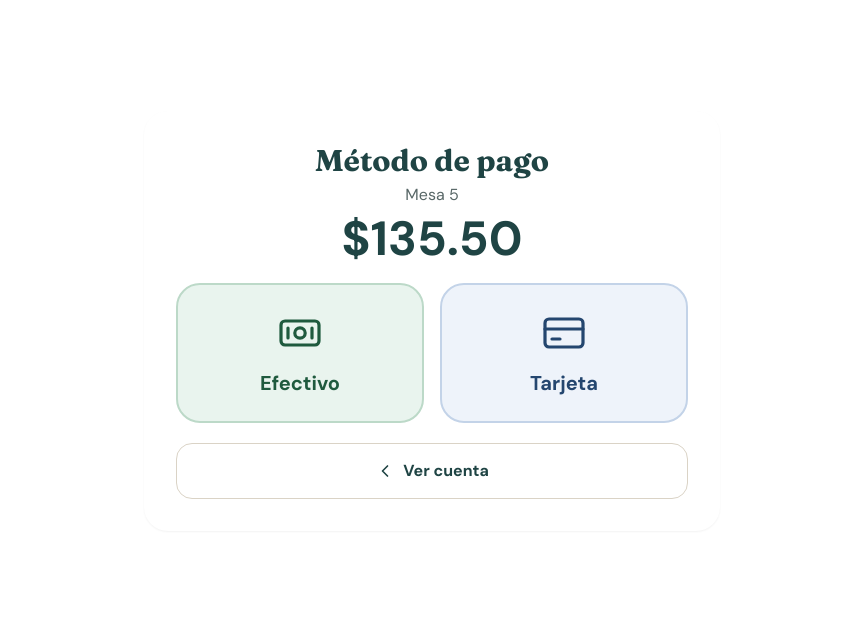
it: PasosPago › efectivo: si no cubre el total no deja cobrar
This screenshot has width=865, height=643.
Later steps or results of the test are not shown.
Step 1. Click the button "Efectivo" → (300, 353), box [176,283,424,423]
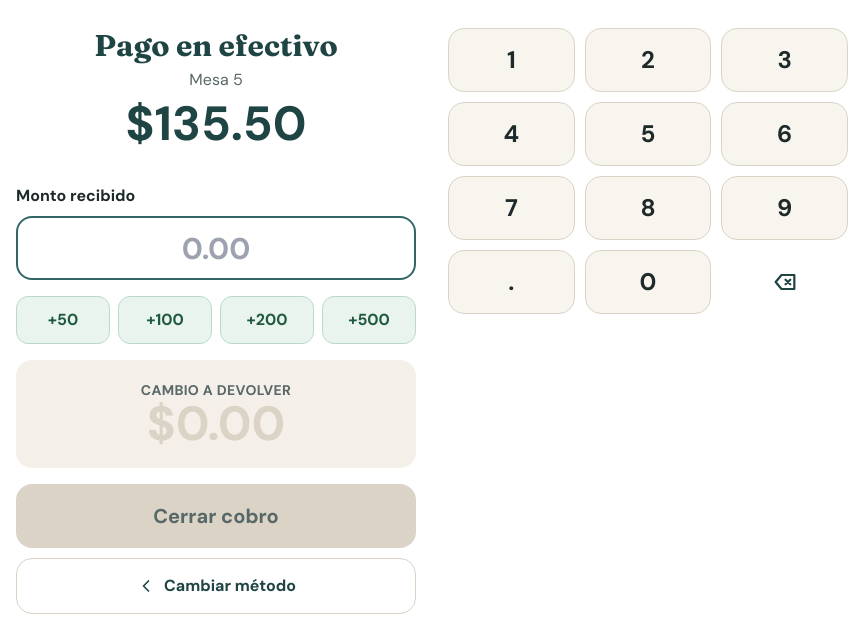
Step 2. Type "100" into the field labelled "Monto recibido" → (216, 248), box [16,216,416,280]
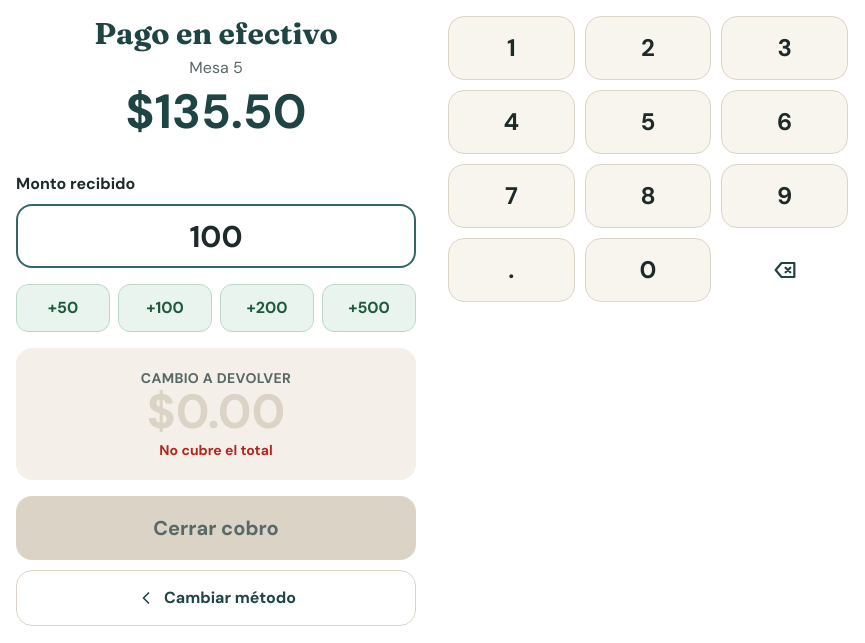
expect the button "Cerrar cobro" is disabled: met, box [16,496,416,560]
expect the text "No cubre el total" is shown: met, box [159,441,273,459]
